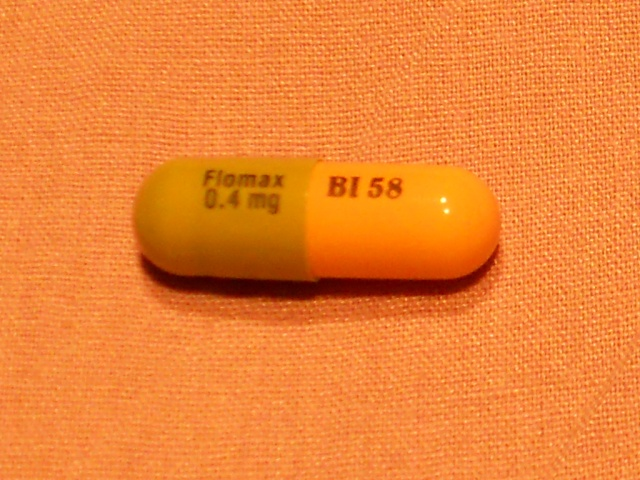capsule: (132, 153, 500, 286)
